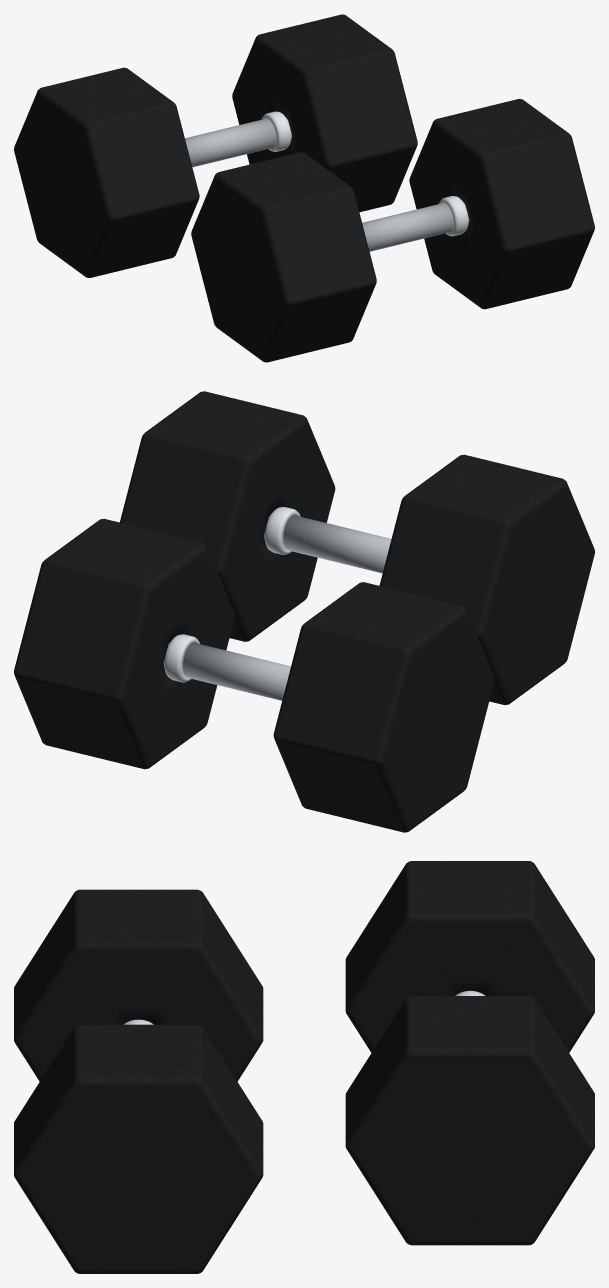
Rendered from pair_of_professional_hex_dumbbells.glb.
The picture shows the model from 3 angles, top to bottom: view 1: azimuth 30°, elevation 25°; view 2: azimuth 150°, elevation 25°; view 3: azimuth 270°, elevation 25°; orthographic projection. The views are drawn at different scales.
Parts seen in each view (by area): view 1: Dumbbell_02_LeftHead, Dumbbell_01_LeftHead, Dumbbell_02_RightHead, Dumbbell_01_RightHead, Dumbbell_02_Handle_Knurl, Dumbbell_01_Handle_Knurl, Dumbbell_02_Handle_Steel, Dumbbell_01_Handle_Steel; view 2: Dumbbell_01_LeftHead, Dumbbell_01_RightHead, Dumbbell_02_LeftHead, Dumbbell_02_RightHead, Dumbbell_02_Handle_Knurl, Dumbbell_01_Handle_Knurl, Dumbbell_02_Handle_Steel, Dumbbell_01_Handle_Steel; view 3: Dumbbell_01_RightHead, Dumbbell_02_RightHead, Dumbbell_02_LeftHead, Dumbbell_01_LeftHead.
Boxes of the visible parts, x1,y1,x2,y2 form: Dumbbell_02_LeftHead: [191, 152, 376, 362]; Dumbbell_01_LeftHead: [14, 67, 199, 277]; Dumbbell_02_RightHead: [409, 99, 594, 309]; Dumbbell_01_RightHead: [232, 14, 417, 212]; Dumbbell_02_Handle_Knurl: [362, 203, 452, 251]; Dumbbell_01_Handle_Knurl: [185, 119, 275, 167]; Dumbbell_02_Handle_Steel: [438, 196, 469, 236]; Dumbbell_01_Handle_Steel: [261, 111, 291, 151]; Dumbbell_01_LeftHead: [273, 582, 494, 832]; Dumbbell_01_RightHead: [14, 518, 234, 769]; Dumbbell_02_LeftHead: [379, 454, 594, 705]; Dumbbell_02_RightHead: [120, 391, 335, 641]; Dumbbell_02_Handle_Knurl: [283, 515, 391, 573]; Dumbbell_01_Handle_Knurl: [183, 643, 290, 700]; Dumbbell_02_Handle_Steel: [264, 507, 300, 554]; Dumbbell_01_Handle_Steel: [163, 634, 199, 682]; Dumbbell_01_RightHead: [345, 996, 594, 1245]; Dumbbell_02_RightHead: [14, 1024, 263, 1273]; Dumbbell_02_LeftHead: [14, 889, 263, 1081]; Dumbbell_01_LeftHead: [345, 861, 594, 1052].
Bounding box in the file's own units: 0.385 × 0.16 × 0.4273.
Materials: 3 (2 with a texture image).
